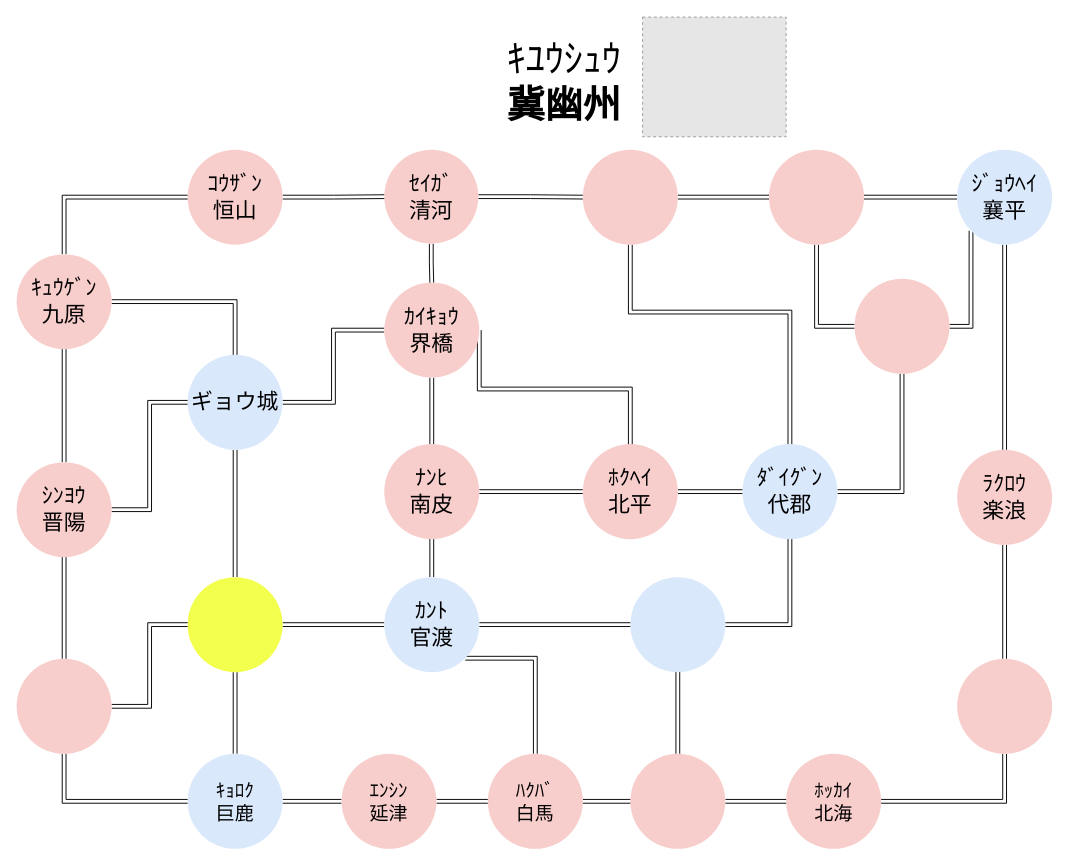
Some shapes in this 1068 by 865 pixel diagram are drawn without their labels. Grey dashed boxes stand in for pictures. Each missing label, with the box of its shape:
ｹｲｼﾞｮｳ 薊城: (769, 149, 864, 244)
ｺｶﾝ 壷関: (16, 658, 111, 753)
ｼﾞｮｳﾄｳ 上党: (187, 577, 282, 672)
ｾｲｷｭｳ 青丘: (957, 658, 1052, 753)
ﾊﾝﾖｳ 范陽: (582, 149, 677, 244)
ﾍｲｹﾞﾝ 平原: (630, 577, 725, 672)
ﾘｮｳﾄｳ 遼東: (854, 278, 949, 373)
ﾘﾝｼ 臨シ: (630, 753, 725, 848)
